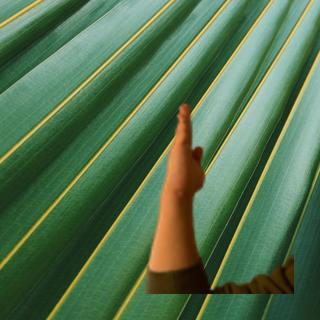RIGHT: (160, 99, 207, 199)
